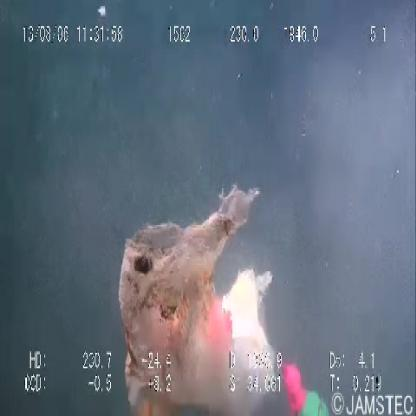Rác: (104, 172, 289, 416)
